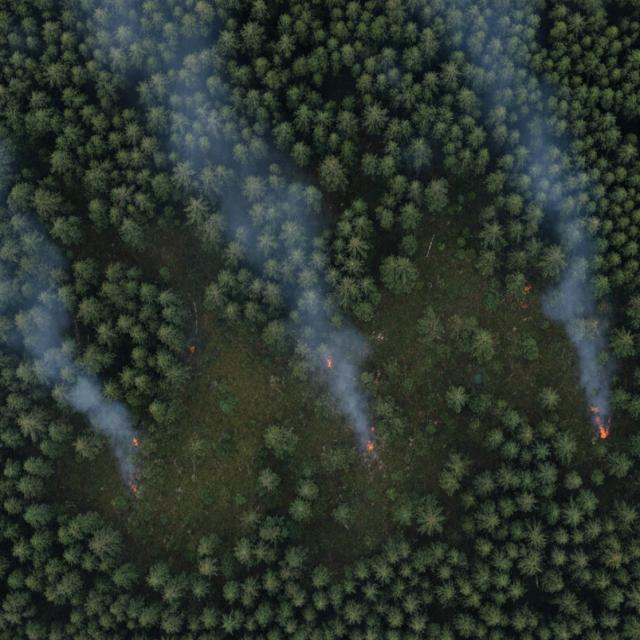wildfire: (315, 334, 383, 464), (104, 420, 153, 508), (575, 363, 620, 454)
